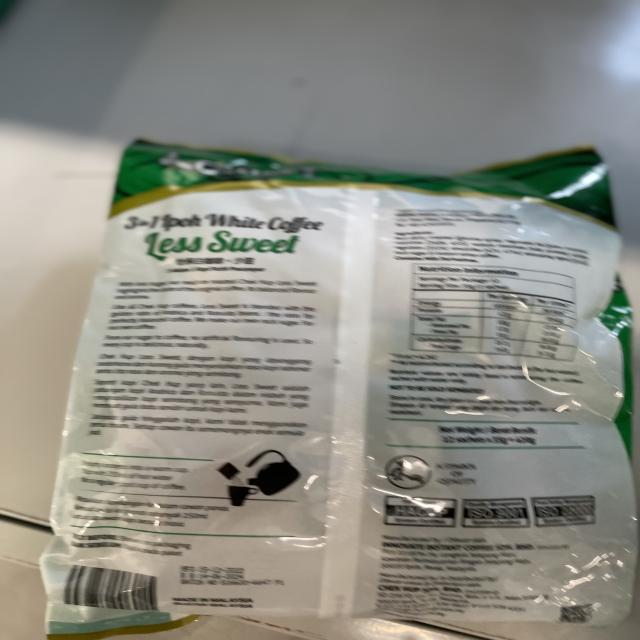object_name: (108, 146, 611, 634)
